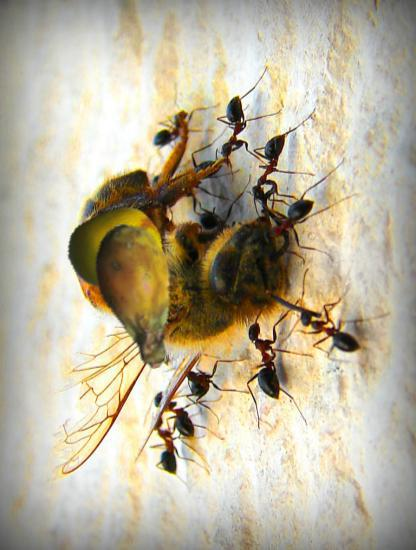Cactus: (64, 222, 213, 371)
Pomelo: (66, 199, 164, 297)
